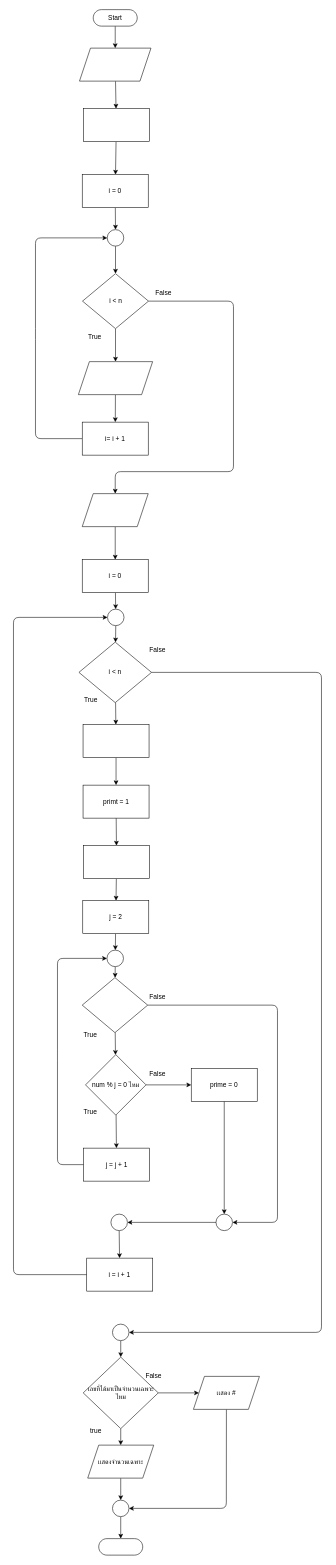
Image size: 336x1565. Some labels were removed from this diagram. Here are the shapes that lost their labels. From the top down, the centre of each, then its label:
point (115, 64): รับค่าตัวเลขจากผู้ใช้
point (116, 125): ค่าที่ได้รับมา = n
point (115, 378): เเสดงค่า value ออกมา
point (115, 510): แสดงค่า Result
point (115, 741): num = arr
point (116, 862): ถ้า num น้อยกว่า 2 prime จะเท่ากับ 0
point (115, 1005): j < num
point (120, 1546): End
